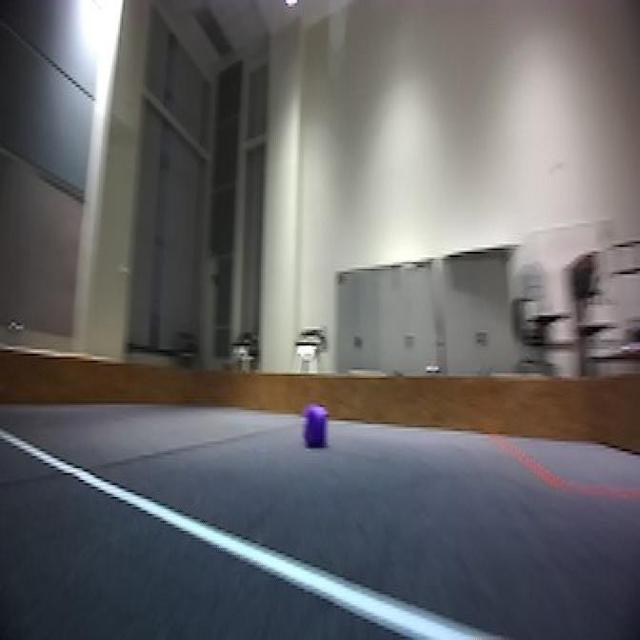frc_cube: (301, 400, 329, 449)
